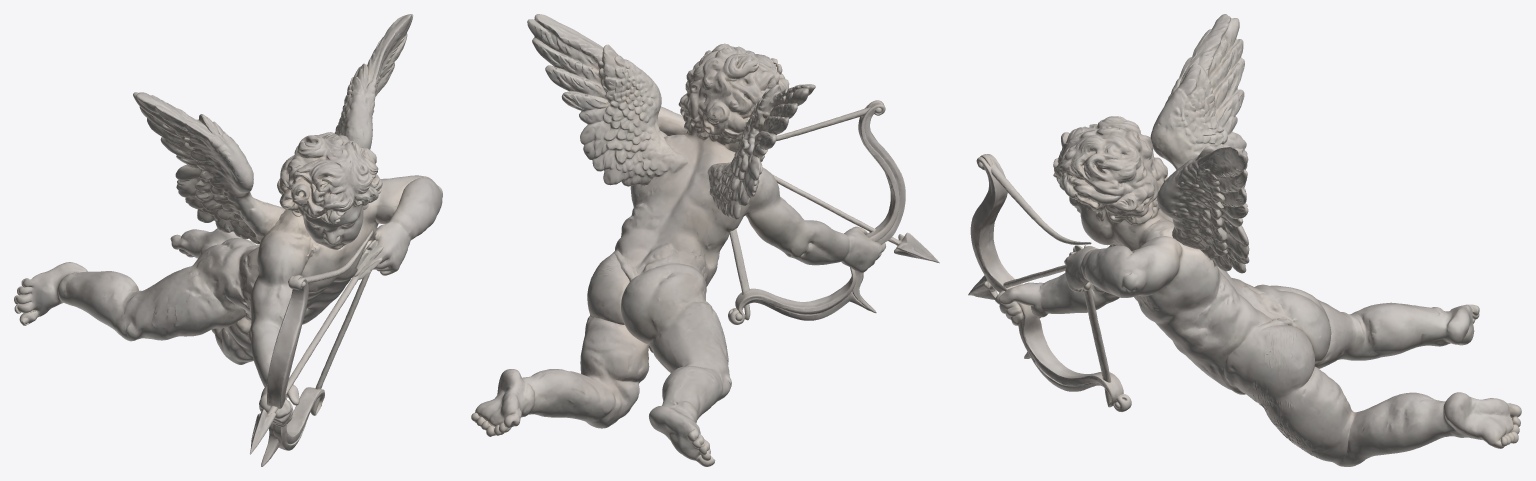
File: cupid-web-300k.glb
The picture shows the model from 3 angles, left to right: view 1: azimuth 30°, elevation 25°; view 2: azimuth 150°, elevation 25°; view 3: azimuth 270°, elevation 25°; orthographic projection. The views are drawn at different scales.
Visible parts, largest first — view 1: model; view 2: model; view 3: model.
Boxes of the visible parts, bbox=[...] form: model: bbox=[14, 14, 442, 466]; model: bbox=[471, 14, 939, 466]; model: bbox=[968, 14, 1521, 466].
Size of the model in its own units: 1.23 by 1.43 by 1.9.
1 material, 1 textured.
